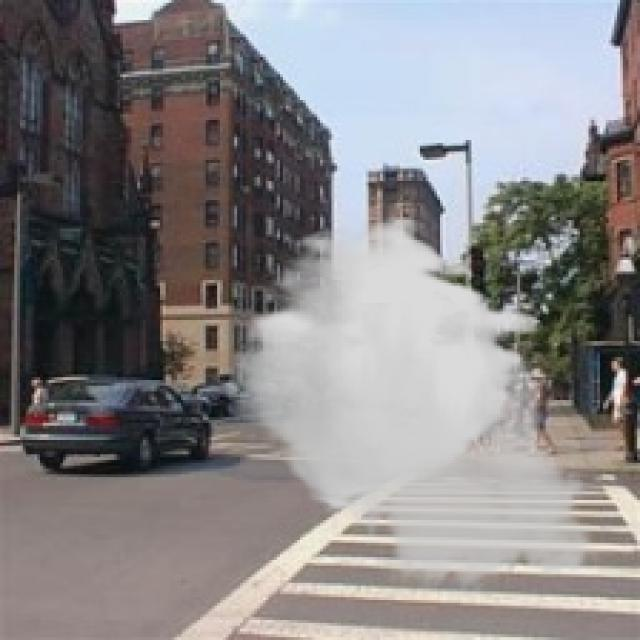Smoke: (228, 215, 608, 600)
